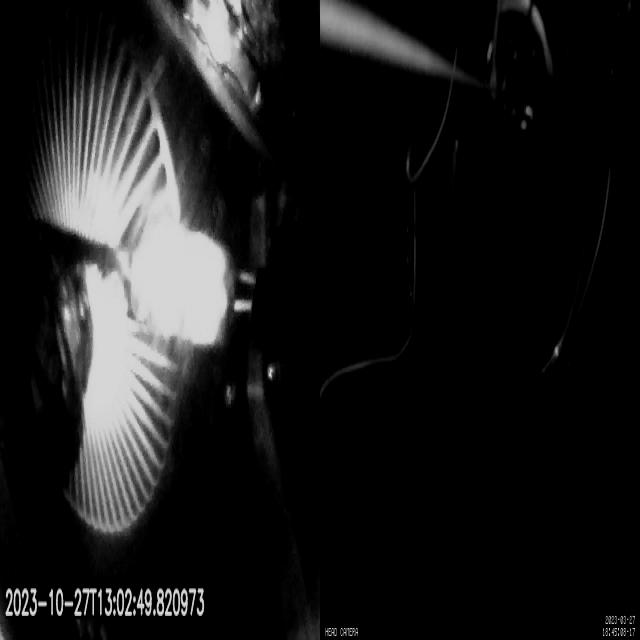head: (132, 211, 232, 344)
